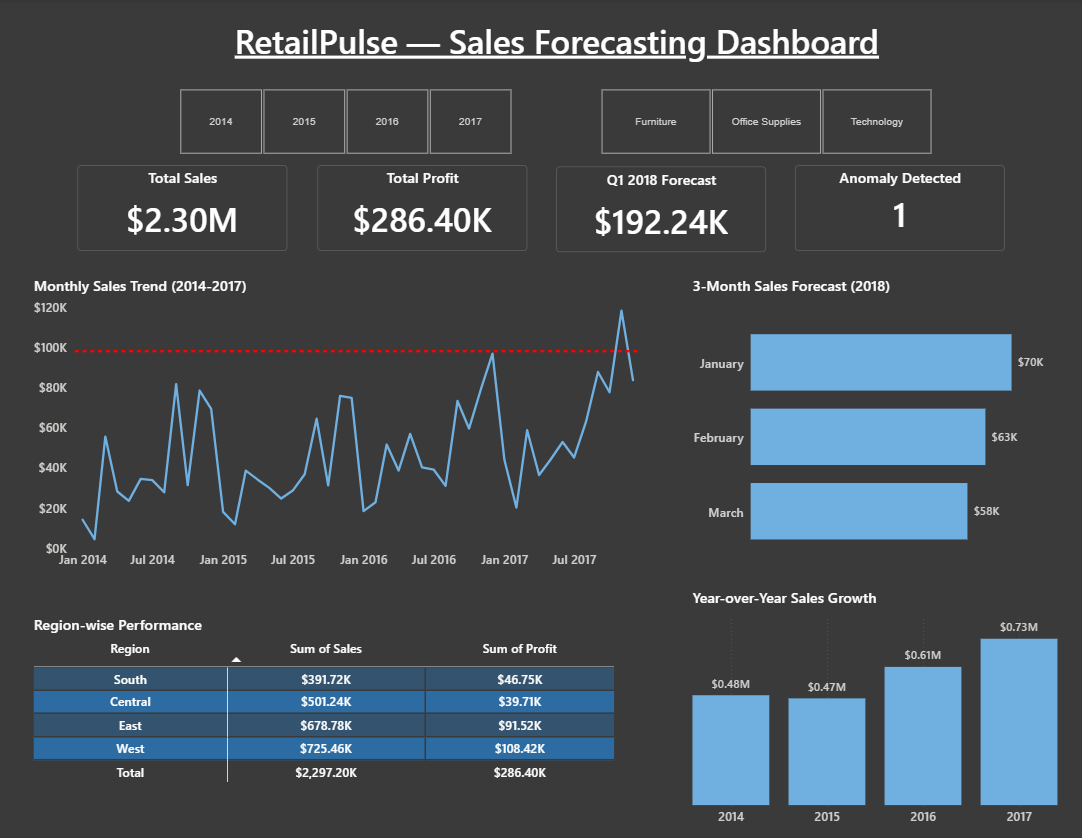

This screenshot's page, from the dashboard's own definition file:
{"tool":"powerbi","page":{"name":"Page 1","canvas":[1400,1100],"ordinal":0},"visuals":[{"type":"cardVisual","title":"Total Sales","fields":{"Data":["Sum(superstore_cleaned.Sales)"]},"box":[100.6,214.2,270,110],"z":0},{"type":"cardVisual","title":"Total Profit","fields":{"Data":["Sum(superstore_cleaned.Profit)"]},"box":[408.5,214.2,270,110],"z":1000},{"type":"slicer","fields":{"Values":["superstore_cleaned.Year"]},"box":[206.2,109.5,476.9,96.7],"z":2000},{"type":"textbox","title":" Jan 2018 Forecast","box":[343.1,390.8,200.6,109.8],"z":3000},{"type":"textbox","title":"Anomaly Detected","box":[1024.2,214.9,270,110.5],"z":4000},{"type":"lineChart","title":"Monthly Sales Trend (2014-2017)","fields":{"Y":["Sum(superstore_cleaned.Sales)"],"Category":["superstore_cleaned.Order Date.Variation.Date Hierarchy.Year","superstore_cleaned.Order Date.Variation.Date Hierarchy.Month"]},"box":[38.5,355.6,811.4,388.1],"z":5000},{"type":"clusteredBarChart","title":"3-Month Sales Forecast (2018)","fields":{"Y":["Sum(forecast.Forecast_Sales)"],"Category":["forecast.Month.Variation.Date Hierarchy.Month"]},"box":[887.9,355.6,480.4,388.1],"z":6000},{"type":"cardVisual","title":"Q1 2018 Forecast","fields":{"Data":["Sum(forecast.Forecast_Sales)"]},"box":[716.3,215.6,270,110],"z":7000},{"type":"clusteredColumnChart","title":"Year-over-Year Sales Growth","fields":{"Category":["superstore_cleaned.Order Date.Variation.Date Hierarchy.Year"],"Y":["Sum(superstore_cleaned.Sales)"]},"box":[887.9,758.4,480.4,316.3],"z":8000},{"type":"textbox","box":[261,19.3,913.4,90.2],"z":9000},{"type":"pivotTable","title":"Region-wise Performance","fields":{"Rows":["superstore_cleaned.Region"],"Values":["Sum(superstore_cleaned.Sales)","Sum(superstore_cleaned.Profit)"]},"box":[38.7,792.6,779.7,248.1],"z":10000},{"type":"slicer","fields":{"Values":["superstore_cleaned.Category"]},"box":[749.1,109.5,475.3,96.7],"z":11000}]}

Visuals, with their boxes in screenshot pixels (x1, y1, x2, y2), scaled from the page's 1400x1100 canvas onto the 1082x838 screenshot:
"Total Sales" cardVisual: pyautogui.locateOnScreen(78, 163, 286, 247)
"Total Profit" cardVisual: pyautogui.locateOnScreen(316, 163, 524, 247)
slicer - superstore_cleaned.Year: pyautogui.locateOnScreen(159, 83, 528, 157)
" Jan 2018 Forecast" textbox: pyautogui.locateOnScreen(265, 298, 420, 381)
"Anomaly Detected" textbox: pyautogui.locateOnScreen(792, 164, 1000, 248)
"Monthly Sales Trend (2014-2017)" lineChart: pyautogui.locateOnScreen(30, 271, 657, 567)
"3-Month Sales Forecast (2018)" clusteredBarChart: pyautogui.locateOnScreen(686, 271, 1058, 567)
"Q1 2018 Forecast" cardVisual: pyautogui.locateOnScreen(554, 164, 762, 248)
"Year-over-Year Sales Growth" clusteredColumnChart: pyautogui.locateOnScreen(686, 578, 1058, 819)
textbox: pyautogui.locateOnScreen(202, 15, 908, 83)
"Region-wise Performance" pivotTable: pyautogui.locateOnScreen(30, 604, 633, 793)
slicer - superstore_cleaned.Category: pyautogui.locateOnScreen(579, 83, 946, 157)
